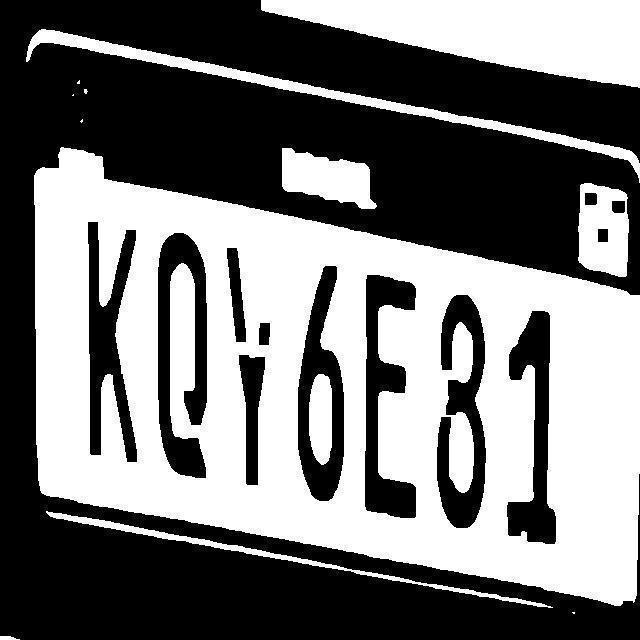1: (502, 302, 568, 557)
6: (292, 247, 350, 520)
8: (432, 284, 494, 544)
e: (358, 266, 426, 544)
k: (78, 221, 146, 470)
q: (155, 226, 221, 487)
y: (222, 239, 279, 486)
